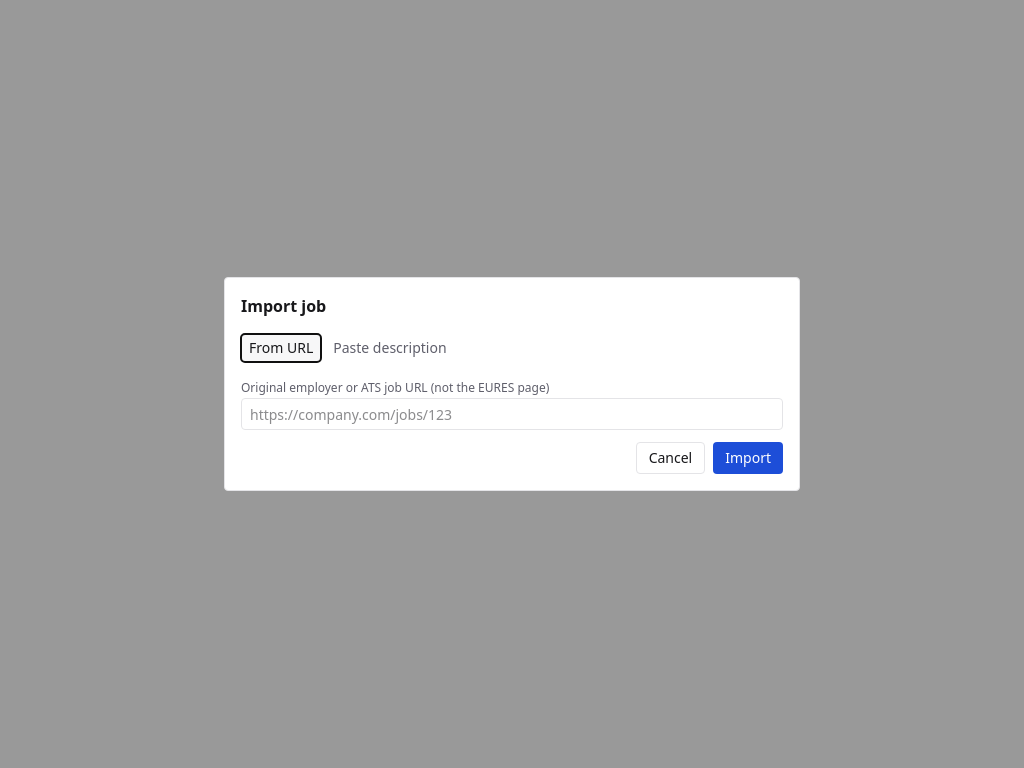
Test: ImportJobDialog › shows EURES and validation errors inline
Type "https://europa.eu/eures/portal/jv-se/jv-details/1" into the field labelled "Original employer or ATS job URL (not the EURES page)" at (512, 414), box [241,398,783,430]
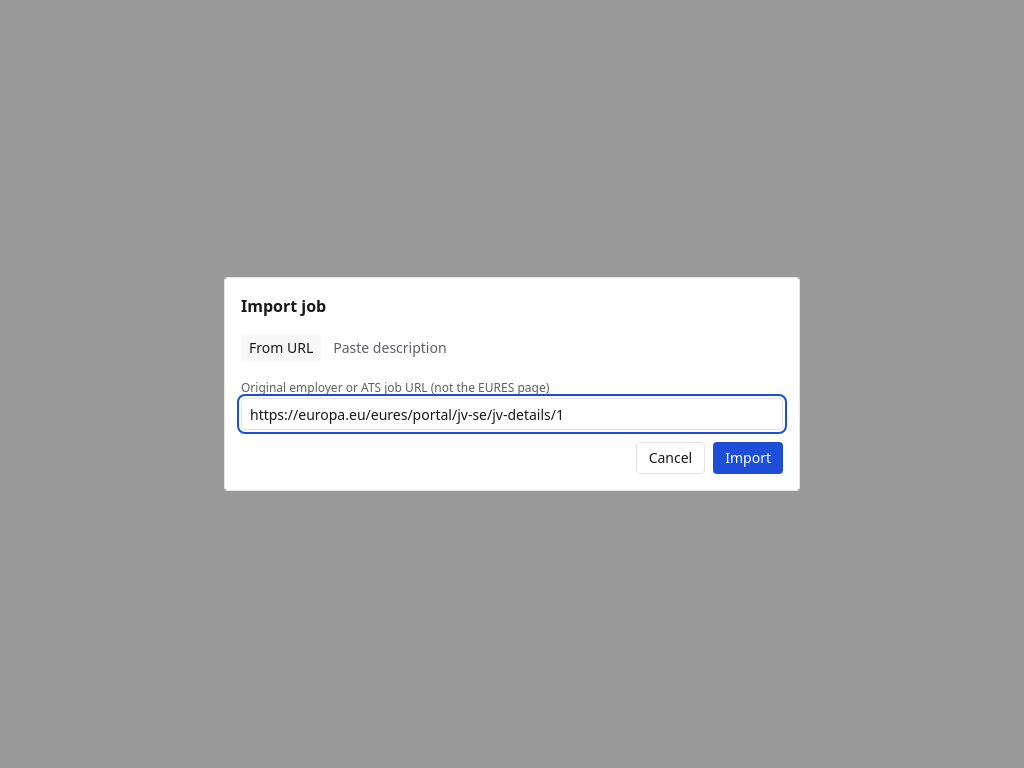
Click the button "Import" at (748, 458), box [713,442,783,474]
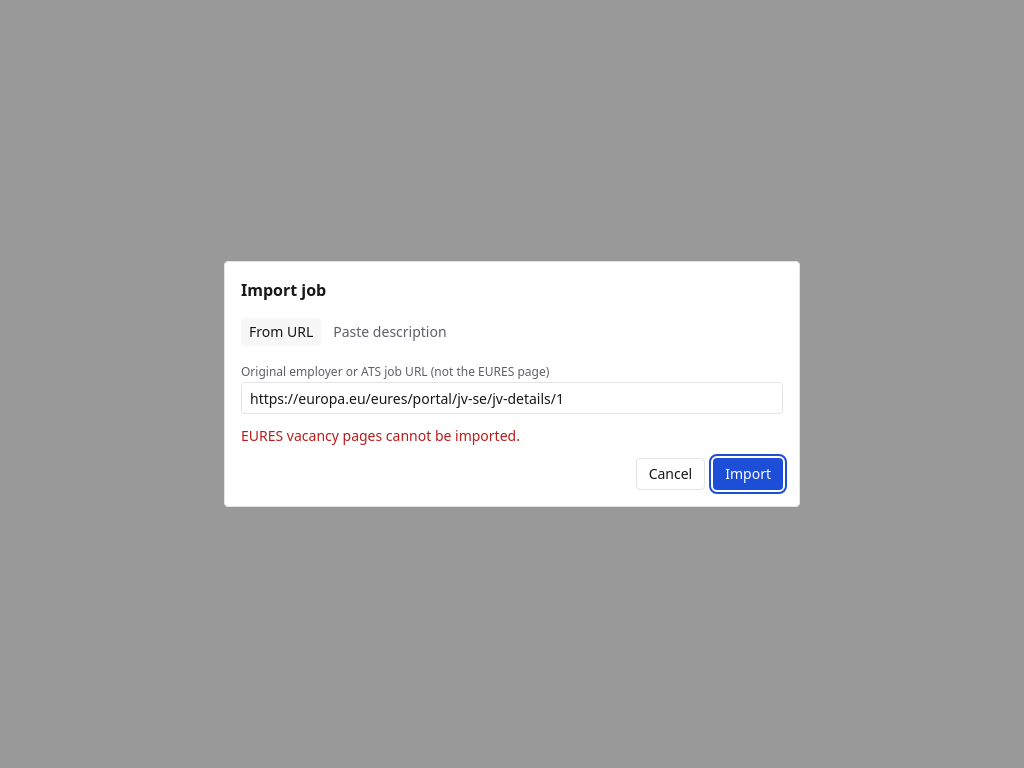
Expected: the message reads "EURES vacancy pages cannot be imported.", [241,426,520,445]
